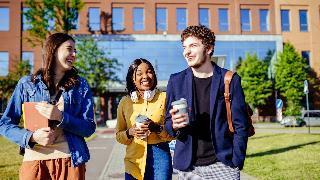person - v3 P: (0, 33, 95, 179), (165, 25, 248, 179), (116, 59, 172, 179)
